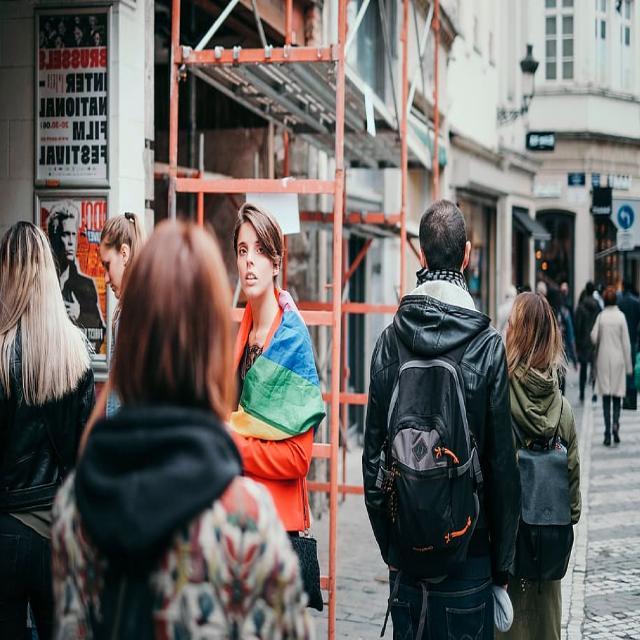adult: (364, 200, 516, 640), (0, 223, 95, 640), (223, 206, 318, 564), (493, 283, 581, 640), (588, 282, 630, 450)
